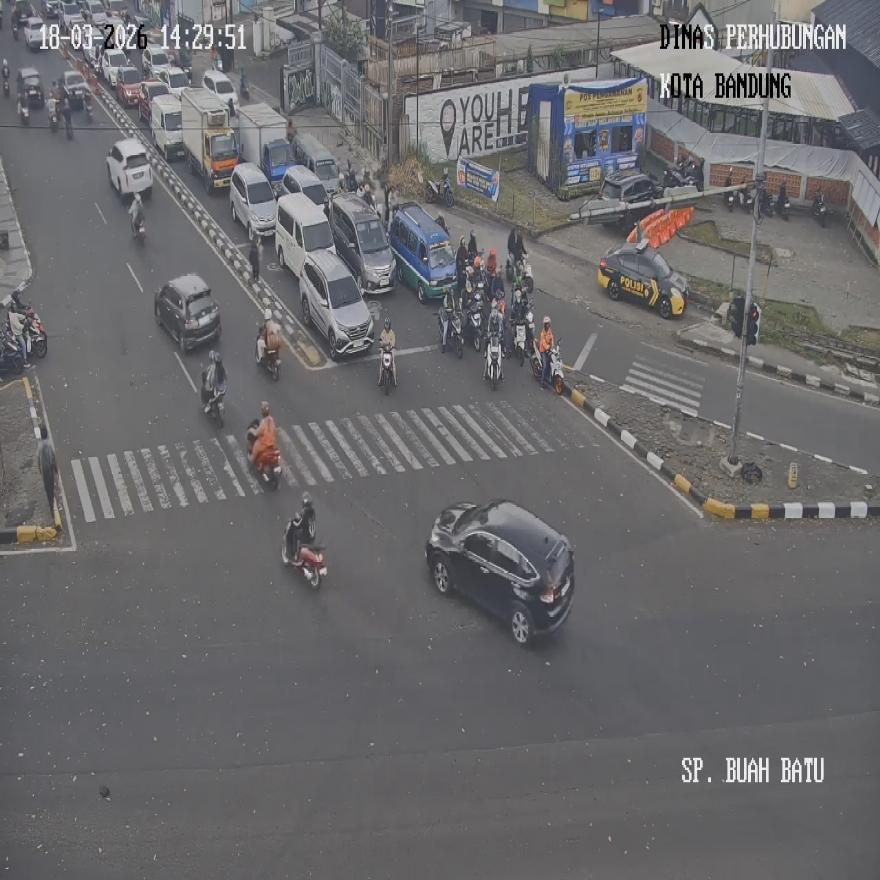Mobil: (425, 498, 575, 646), (598, 236, 689, 319), (388, 203, 458, 302), (154, 271, 221, 352), (599, 168, 663, 228), (107, 137, 154, 200)
Motor: (281, 512, 327, 587), (246, 418, 282, 488), (532, 336, 564, 394), (201, 357, 225, 425), (510, 292, 534, 358), (256, 317, 281, 380), (439, 309, 463, 358), (0, 329, 25, 376), (464, 299, 483, 352), (378, 342, 395, 394), (129, 192, 146, 244), (486, 336, 502, 389), (811, 190, 827, 228), (756, 187, 774, 219), (724, 168, 736, 212), (776, 185, 790, 221), (741, 181, 756, 214), (17, 94, 29, 125), (48, 103, 59, 132), (3, 66, 9, 95)
